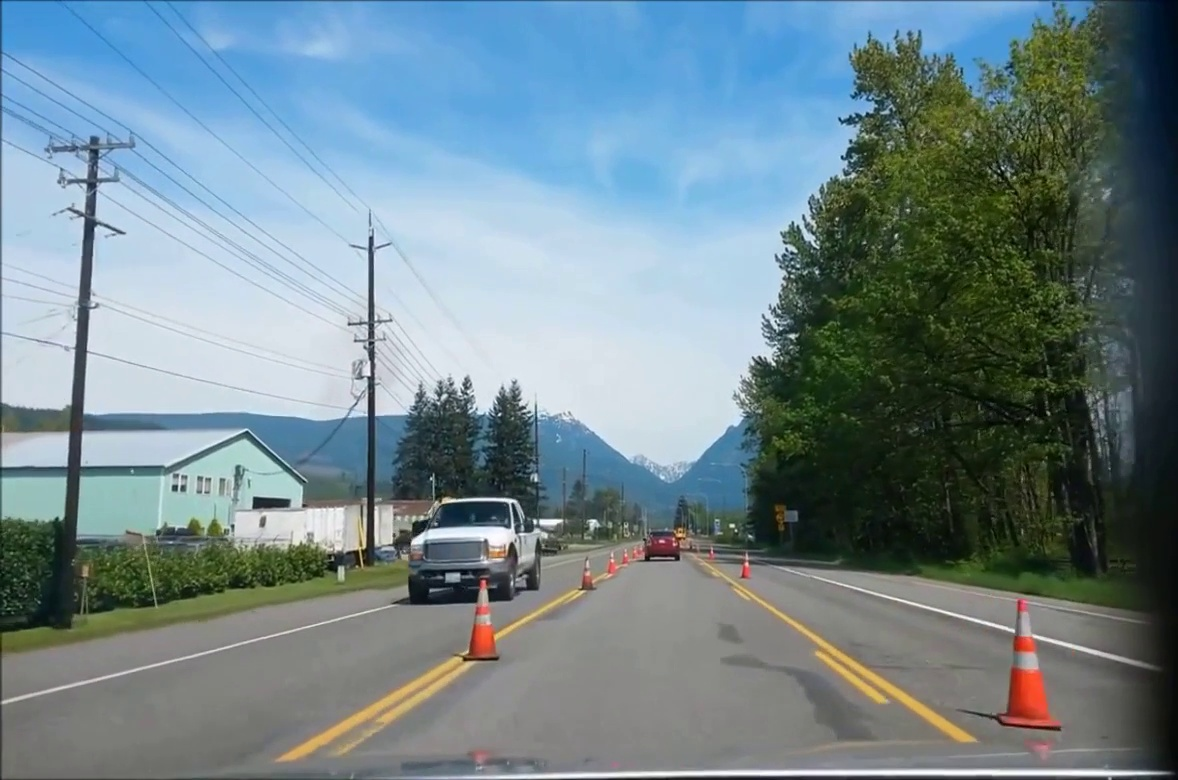Cone: (1002, 595, 1057, 730), (460, 576, 504, 660), (578, 557, 596, 588)
